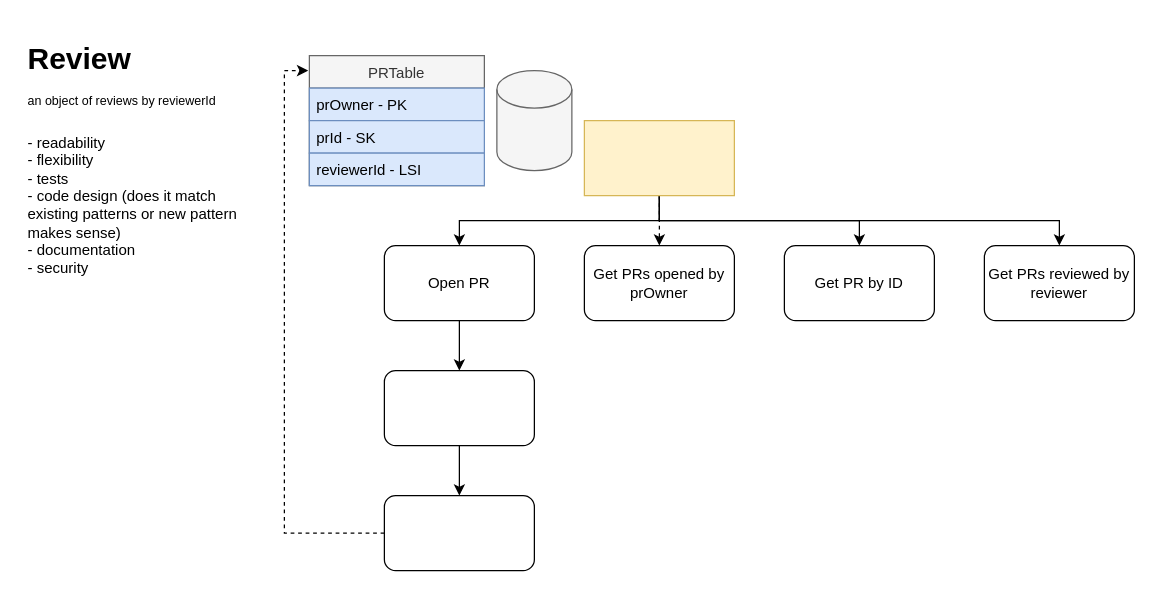
Some shapes in this 1156 by 593 pixel diagram are drawn without their labels. Here are the shapes that lost their labels. From the top down, the centre of each, then its label:
[534,120]: DynamoDB PRTable
[658,157]: CodeReview Bot
[458,407]: Assign Reviewer
[458,532]: Complete Review Collect feedback
